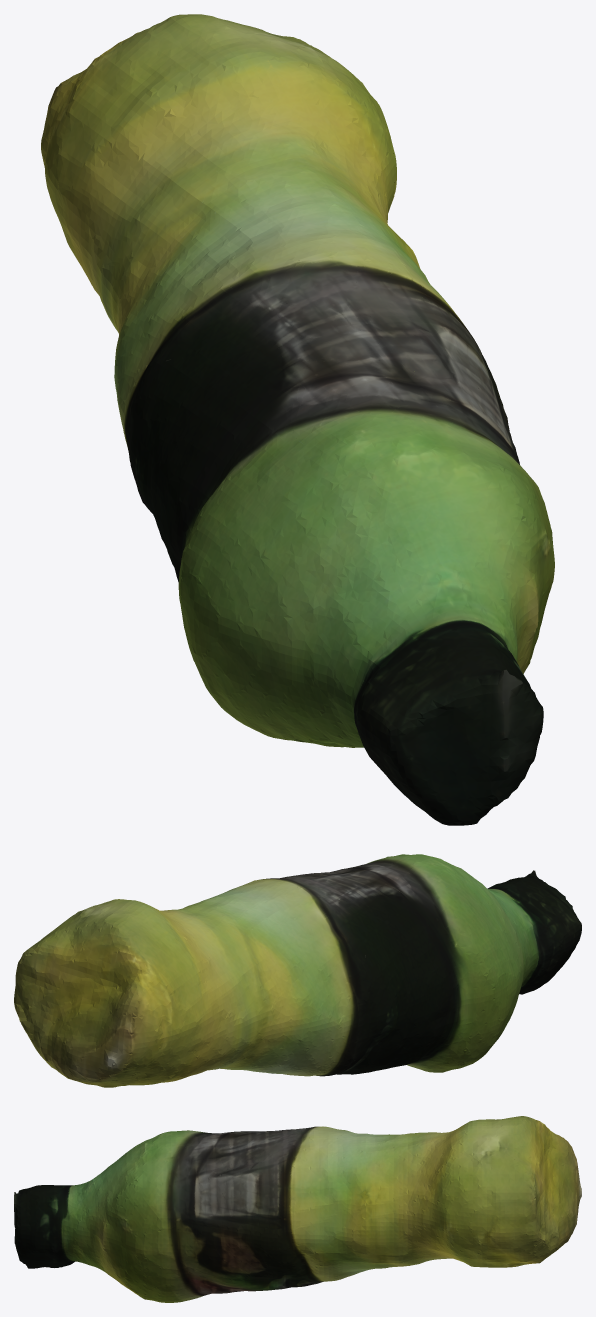
File: 0_rgba.obj
The picture shows the model from 3 angles, top to bottom: view 1: azimuth 30°, elevation 25°; view 2: azimuth 150°, elevation 25°; view 3: azimuth 270°, elevation 25°; orthographic projection. The views are drawn at different scales.
Bounding box in the file's own units: 0.9838 × 0.8423 × 2.
1 material, 1 textured.
